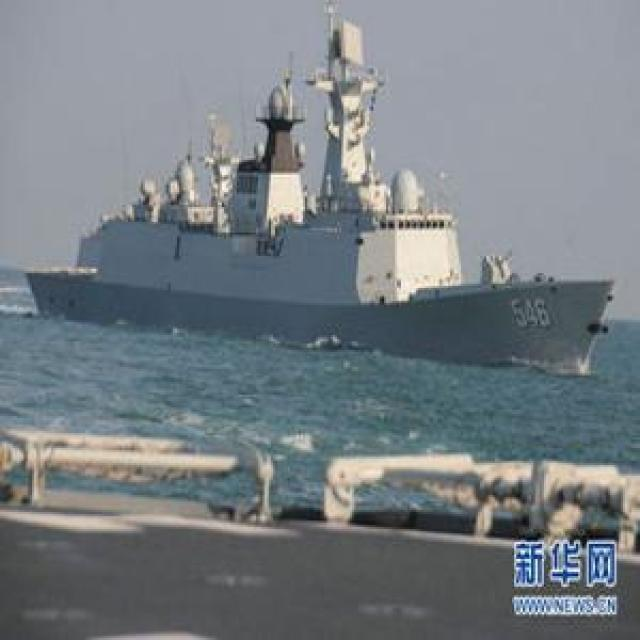navalvessels: (21, 1, 613, 373)
